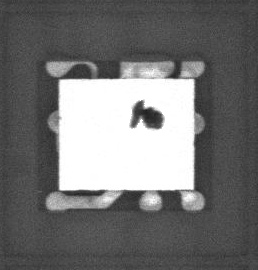DIE_INK: (123, 104, 157, 136)
